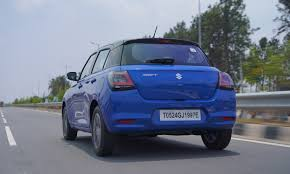Swift: (57, 28, 239, 153)
